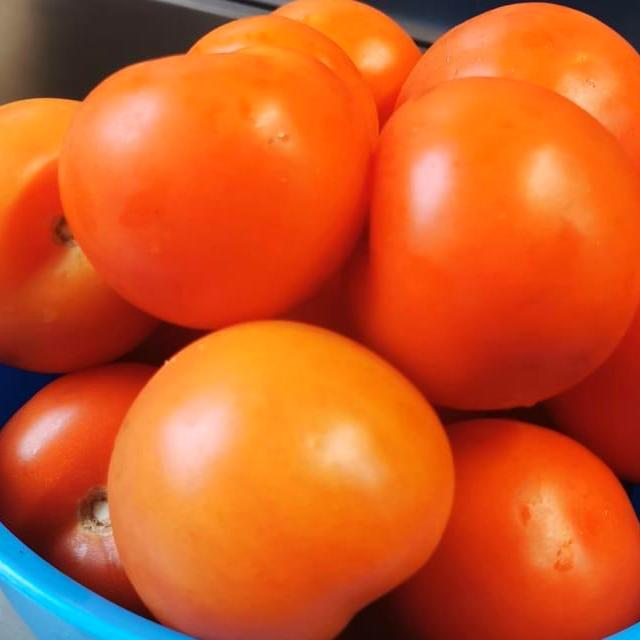tomato: (81, 302, 469, 640), (324, 72, 640, 402), (54, 28, 372, 325)
